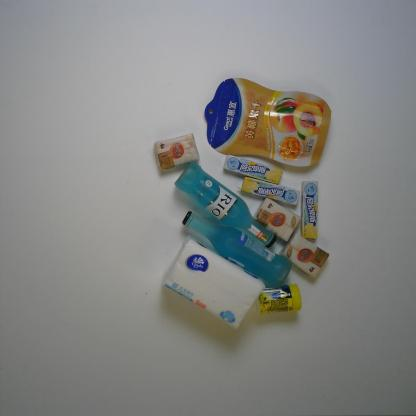Alcohol: (171, 157, 278, 249), (179, 209, 294, 290)
Candy: (222, 153, 284, 186), (237, 175, 301, 206), (300, 179, 319, 241)
Dried Fruit: (203, 76, 333, 168)
Gum: (254, 282, 303, 317)
Tissue: (157, 233, 267, 333), (278, 232, 330, 280), (253, 196, 303, 243), (152, 132, 200, 172)
